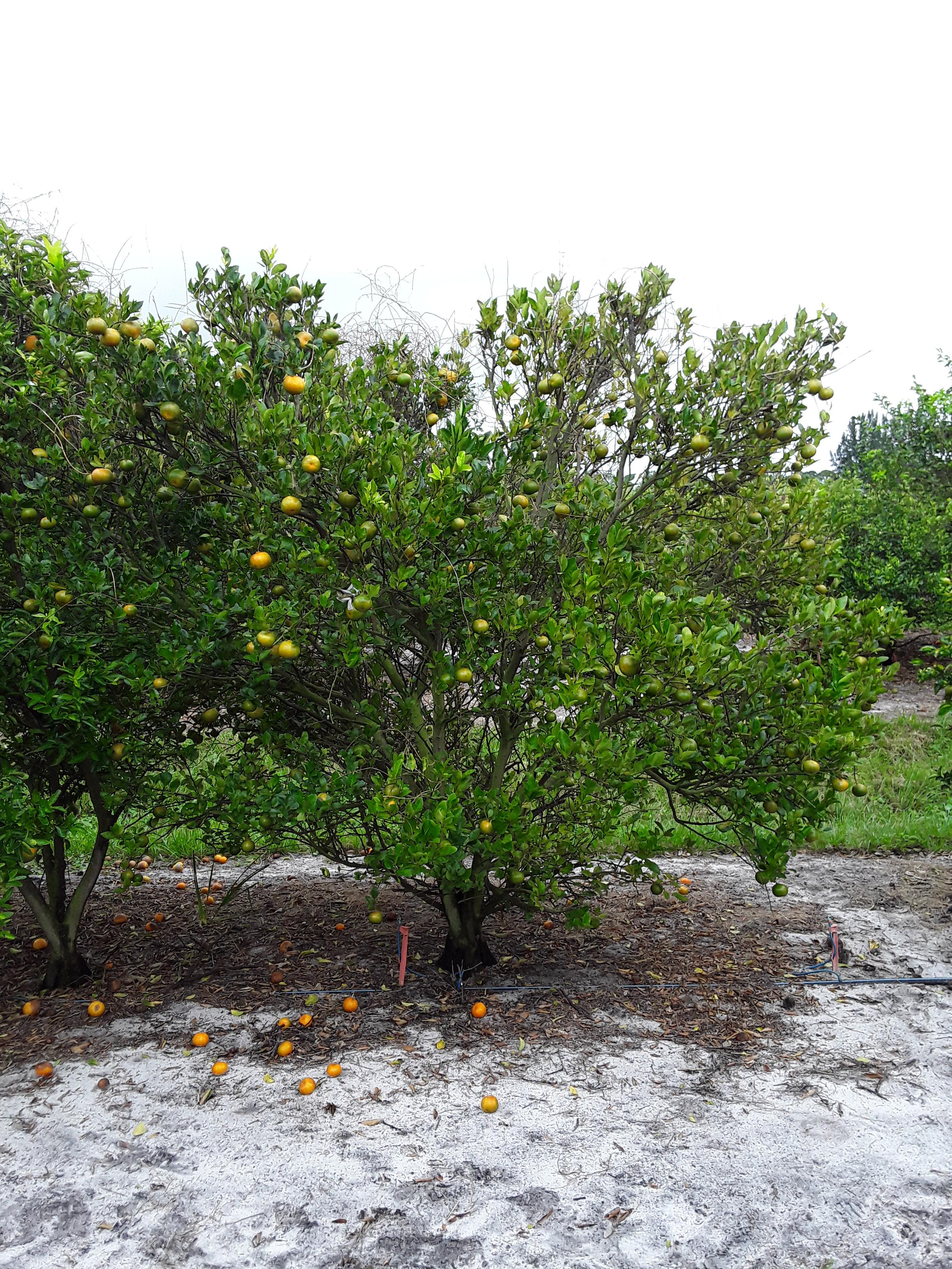fruit_on_ground: (616, 652, 642, 678), (281, 372, 307, 395), (125, 398, 149, 422), (165, 466, 190, 489), (118, 317, 143, 340), (277, 638, 302, 661), (22, 332, 46, 355), (278, 492, 302, 515), (84, 313, 108, 336), (270, 316, 292, 341), (299, 452, 322, 475), (158, 399, 182, 421), (248, 549, 272, 571), (341, 542, 363, 565), (293, 328, 316, 350), (91, 465, 114, 487), (100, 326, 123, 348), (229, 364, 253, 385), (350, 591, 373, 612), (336, 488, 359, 509), (753, 864, 775, 885), (107, 739, 128, 761), (320, 324, 342, 345), (284, 283, 306, 304), (28, 444, 51, 464), (690, 432, 711, 453), (154, 484, 176, 504), (52, 587, 74, 607), (178, 315, 200, 335), (800, 756, 822, 776), (343, 602, 364, 622), (677, 735, 698, 755), (755, 419, 776, 439), (256, 628, 277, 648), (380, 780, 402, 799), (672, 685, 694, 704), (591, 662, 611, 682), (578, 410, 598, 430), (471, 615, 491, 635), (774, 422, 794, 442), (186, 475, 205, 496), (137, 335, 158, 354), (695, 696, 716, 715), (506, 867, 527, 886), (359, 519, 380, 538), (502, 332, 523, 351), (199, 706, 220, 725), (535, 376, 554, 396), (477, 816, 496, 836), (830, 775, 850, 794), (455, 664, 474, 684), (245, 702, 266, 720), (521, 476, 542, 494), (647, 448, 666, 467), (569, 686, 588, 705), (120, 600, 139, 619), (19, 504, 38, 523), (662, 521, 681, 540), (816, 383, 835, 402), (782, 673, 802, 691), (195, 536, 215, 554), (80, 501, 100, 519), (805, 376, 823, 396), (313, 552, 332, 570), (240, 697, 259, 715), (395, 370, 414, 388), (783, 741, 802, 759), (19, 843, 38, 861), (646, 679, 665, 697), (851, 780, 870, 798), (21, 596, 40, 614), (548, 372, 567, 390), (512, 492, 531, 510), (64, 493, 84, 510), (508, 348, 528, 365), (770, 881, 790, 898), (803, 826, 821, 844), (314, 788, 332, 806), (257, 812, 275, 830), (238, 835, 256, 853), (652, 348, 670, 366), (799, 441, 817, 459), (652, 731, 671, 748), (38, 514, 57, 531), (434, 389, 451, 408), (553, 500, 572, 517), (593, 441, 610, 460), (386, 368, 404, 385), (116, 493, 134, 510), (800, 535, 817, 553), (449, 514, 467, 531), (271, 581, 288, 598), (648, 878, 665, 895), (424, 409, 441, 426), (534, 633, 551, 650), (36, 633, 53, 650), (117, 456, 135, 472), (151, 674, 169, 690), (152, 802, 170, 818), (726, 531, 743, 547), (762, 798, 779, 814), (367, 909, 383, 925), (813, 582, 830, 597), (854, 654, 871, 669), (242, 638, 257, 655), (746, 510, 763, 525), (788, 471, 804, 486), (600, 411, 616, 426), (632, 444, 647, 459), (542, 709, 557, 724), (604, 390, 620, 404), (135, 832, 150, 846), (444, 370, 459, 384), (623, 395, 637, 410), (790, 459, 805, 473), (121, 869, 135, 882), (858, 700, 872, 713), (535, 449, 549, 462), (228, 843, 241, 856), (132, 872, 144, 884)
fruit_on_tree: (21, 997, 42, 1018), (33, 1059, 54, 1078), (86, 998, 107, 1017), (480, 1093, 499, 1113), (469, 1000, 488, 1019), (298, 1076, 317, 1094), (275, 1039, 293, 1057), (341, 995, 359, 1013), (191, 1030, 210, 1047), (32, 935, 50, 952), (325, 1061, 343, 1078), (211, 1059, 228, 1076), (780, 992, 797, 1008), (278, 938, 295, 954), (269, 969, 285, 985), (111, 912, 128, 925), (277, 1016, 292, 1030), (299, 1012, 313, 1026), (107, 978, 122, 991), (96, 1077, 110, 1090), (677, 884, 691, 897), (541, 918, 556, 930), (678, 876, 692, 888), (136, 857, 150, 869), (126, 857, 139, 869), (211, 879, 224, 891), (384, 910, 398, 921), (200, 854, 213, 865), (174, 880, 187, 891), (171, 862, 183, 873), (201, 887, 213, 898), (334, 920, 346, 931), (203, 895, 215, 906), (140, 874, 152, 885), (143, 921, 155, 932), (154, 910, 164, 921), (212, 853, 223, 862)
